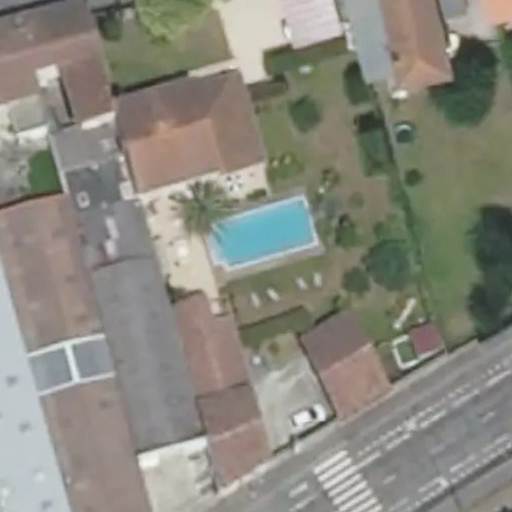pool: (199, 234, 310, 252)
